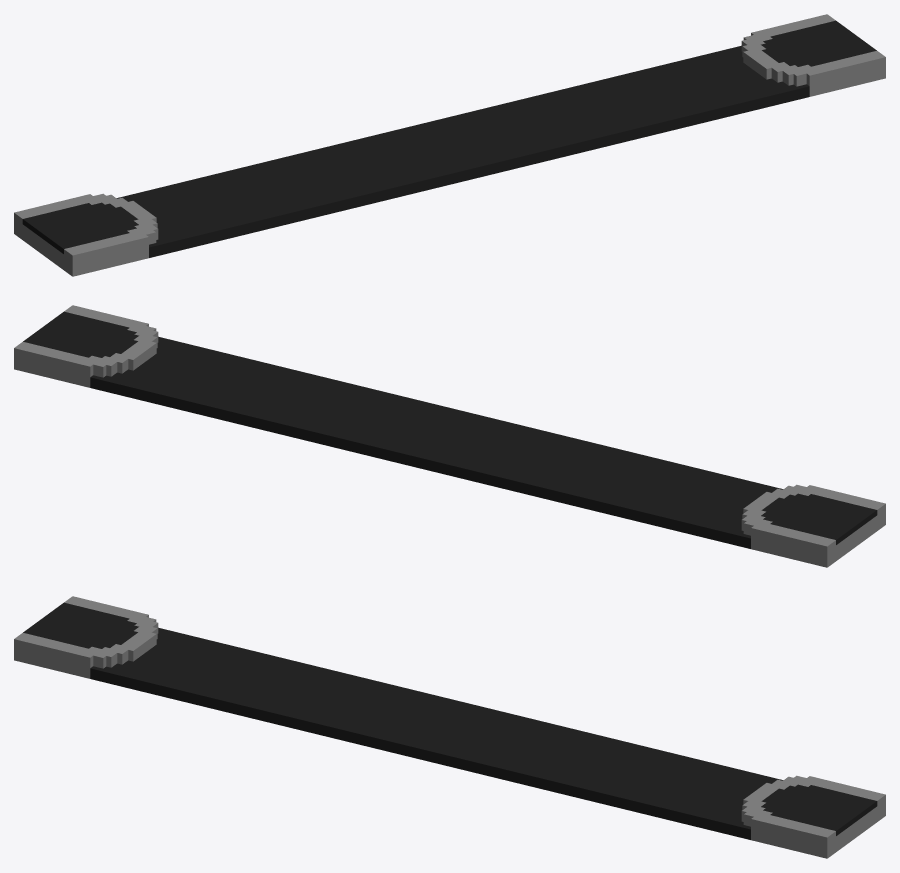
File: 4LaneRoadDividerBreak.obj
3 views of the same model, one above another, from view 1: azimuth 30°, elevation 25°; view 2: azimuth 150°, elevation 25°; view 3: azimuth 330°, elevation 25° (orthographic).
Size of the model in its own units: 16 by 0.4 by 2.
1 material, 1 textured.
